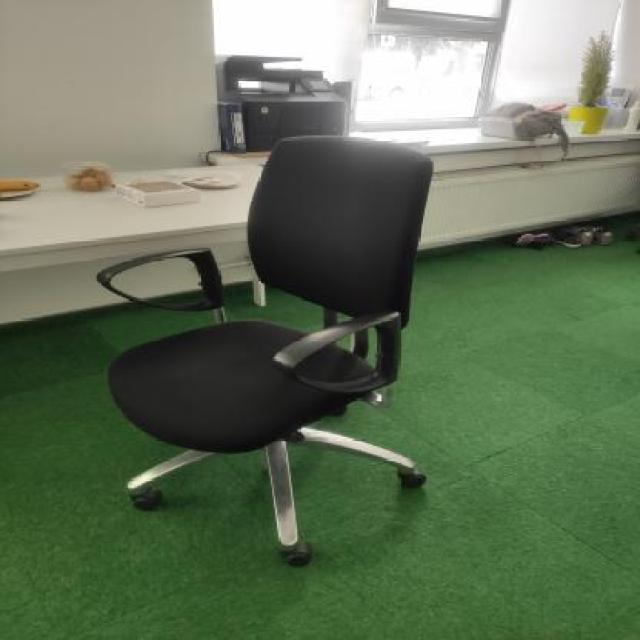chair: (74, 124, 454, 564)
